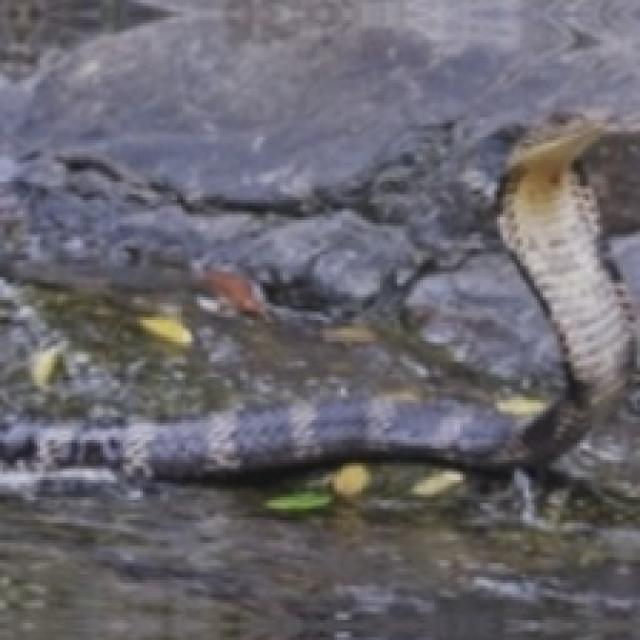king cobra: (0, 123, 637, 491)
